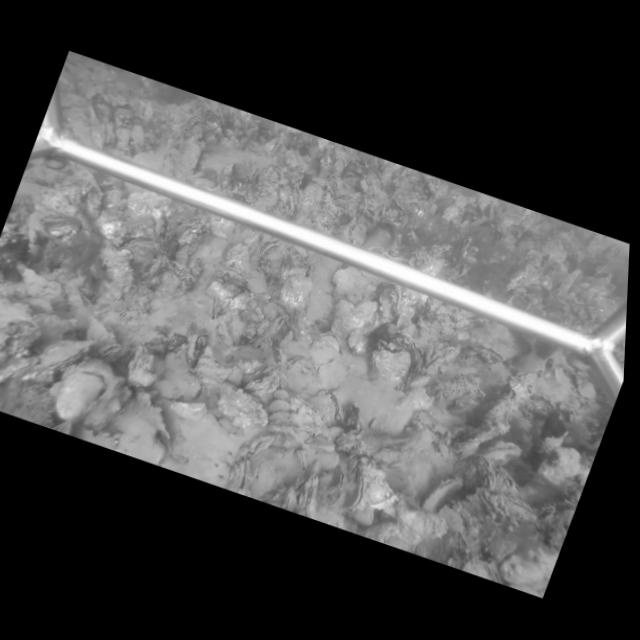Oyster-Closed: (454, 486, 540, 565), (51, 359, 122, 424), (215, 381, 270, 428), (368, 342, 413, 390), (38, 337, 98, 372), (453, 451, 496, 495), (456, 422, 506, 454), (420, 476, 464, 512), (244, 363, 285, 399), (480, 439, 526, 468), (279, 274, 314, 311), (370, 279, 400, 322), (259, 242, 291, 278), (342, 468, 367, 512), (117, 235, 164, 258), (0, 356, 36, 381), (186, 328, 208, 367), (227, 459, 250, 492), (302, 476, 319, 515), (100, 343, 129, 363), (353, 504, 375, 528), (267, 315, 287, 341), (282, 485, 297, 511), (456, 236, 470, 259), (331, 393, 343, 416)
Oyster-Indeterminate: (201, 266, 250, 322)
